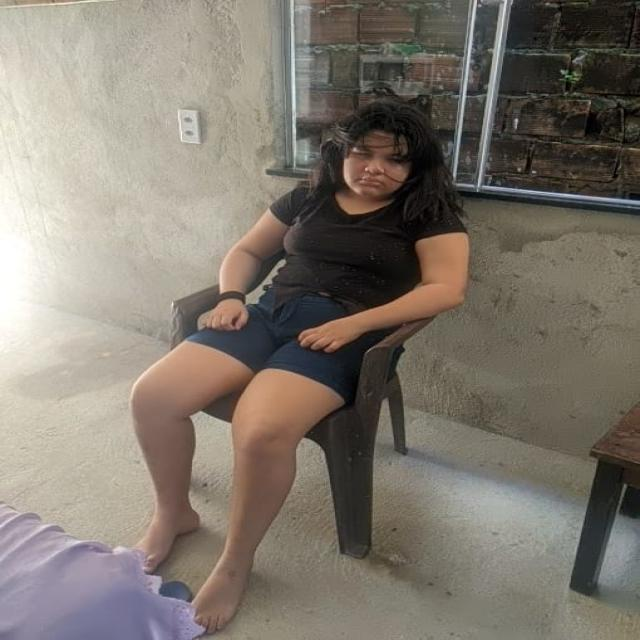sentado: (131, 99, 471, 634)
